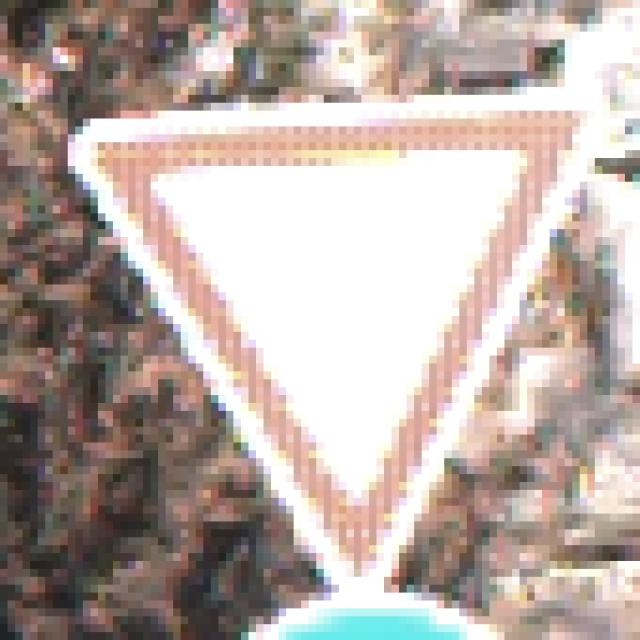Give Way: (62, 64, 589, 586)
